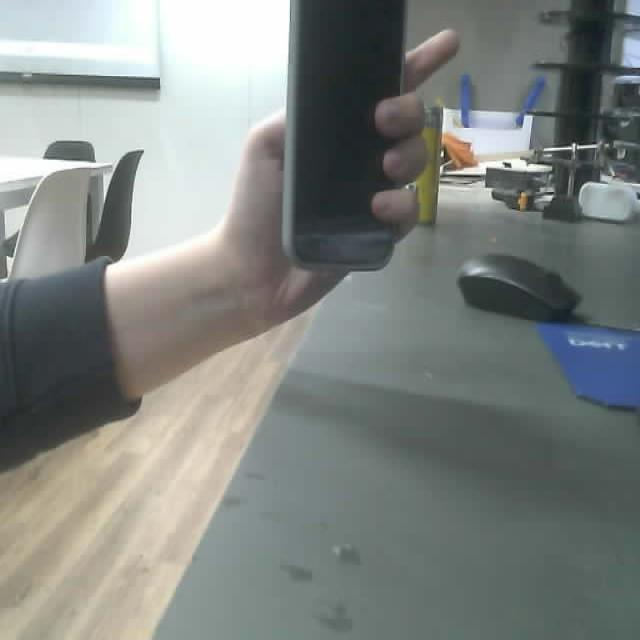phone: (280, 0, 407, 272)
